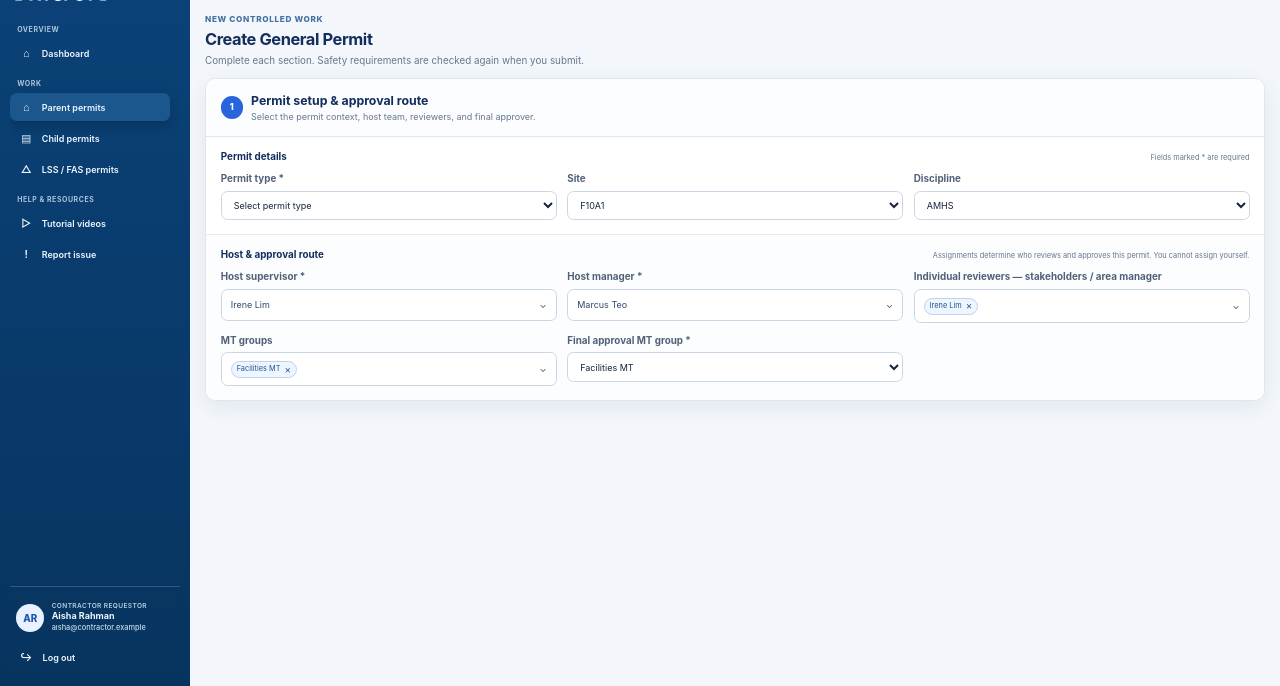
Test case: application shell › creates selected B1-B4 template options as navigable child permits
Step 1. Select "G · General" in the dropdown named "Permit template type" → (389, 206), box [221, 191, 556, 220]
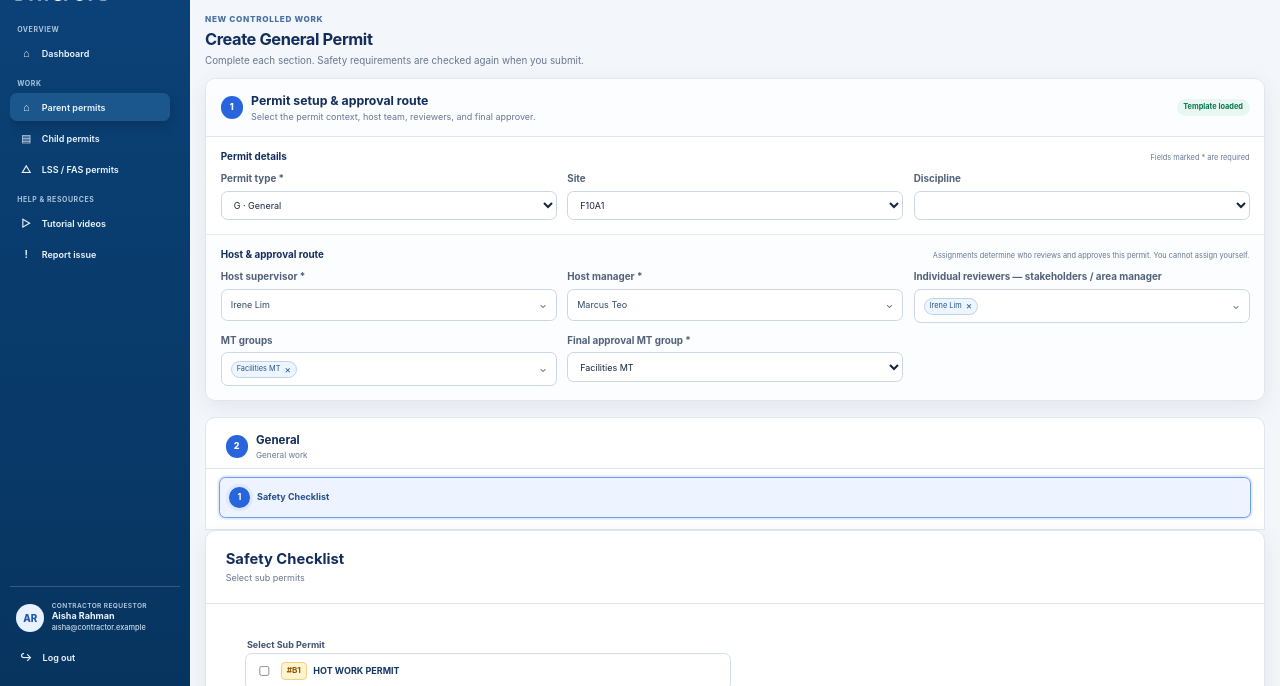
Step 2. Click the checkbox labelled "#B1 HOT WORK PERMIT" → (265, 671), box [259, 666, 270, 676]
(page scrolled)
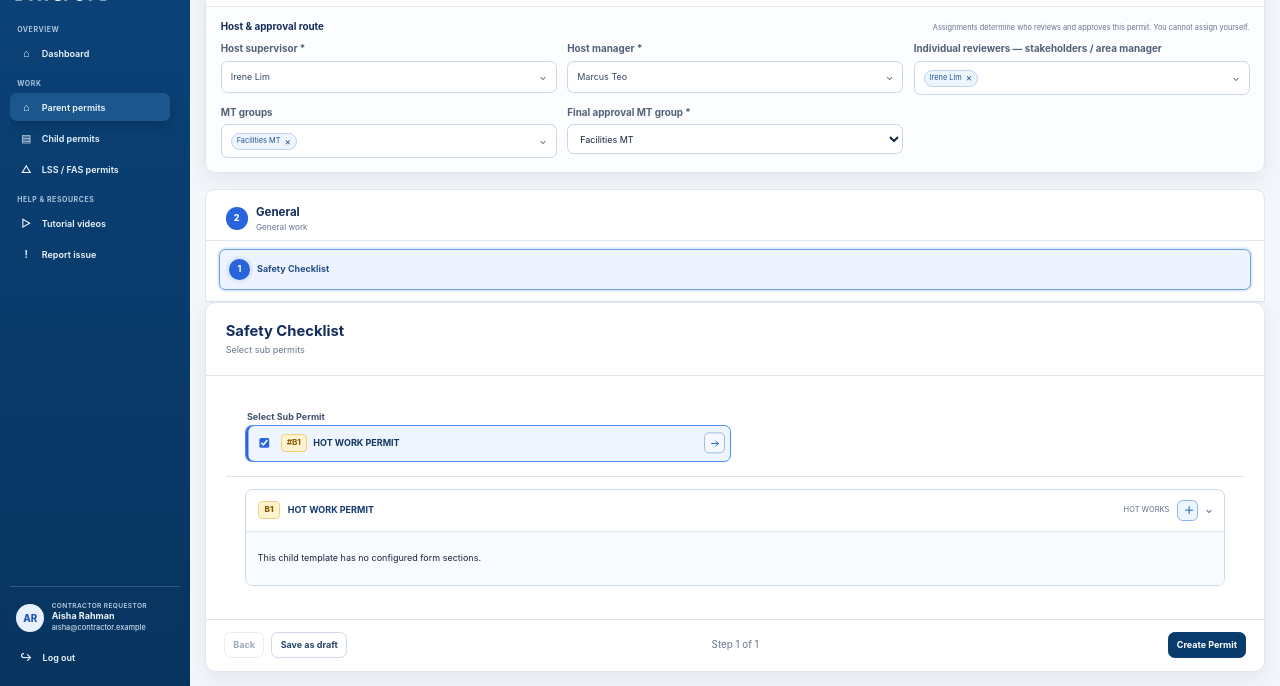
Step 3. Click the button "Create Permit" → (1207, 645), box [1168, 632, 1246, 658]
(page scrolled)
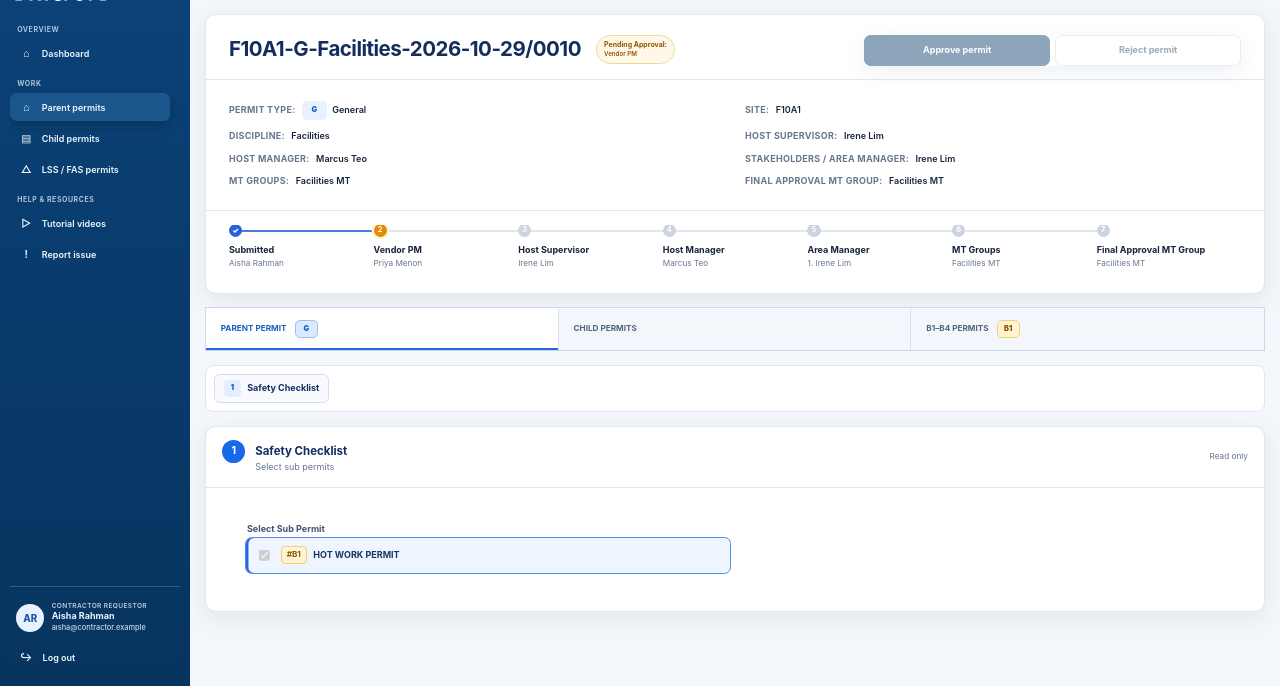
Step 4. Click the tab "B1–B4 permits B1" → (957, 328), box [912, 308, 1264, 350]
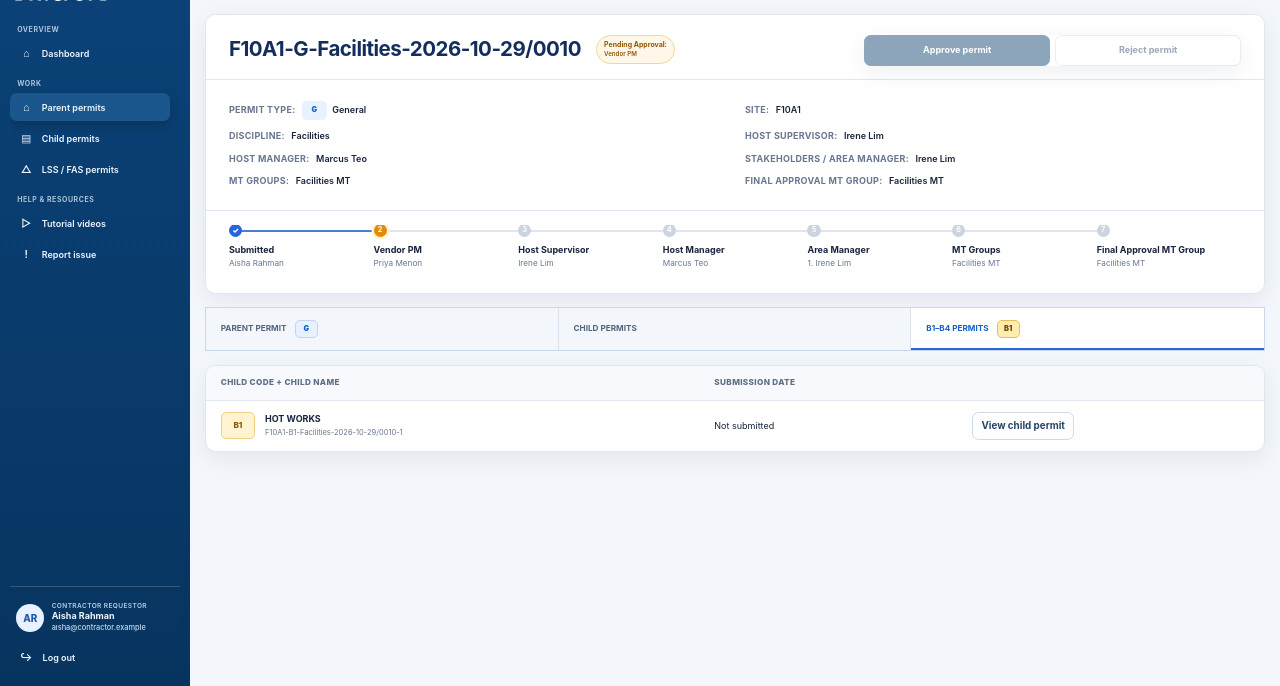
Now the text "HOT WORKS" is shown, box [265, 413, 321, 424]
Now the link "View child permit" is shown, box [972, 412, 1074, 440]
